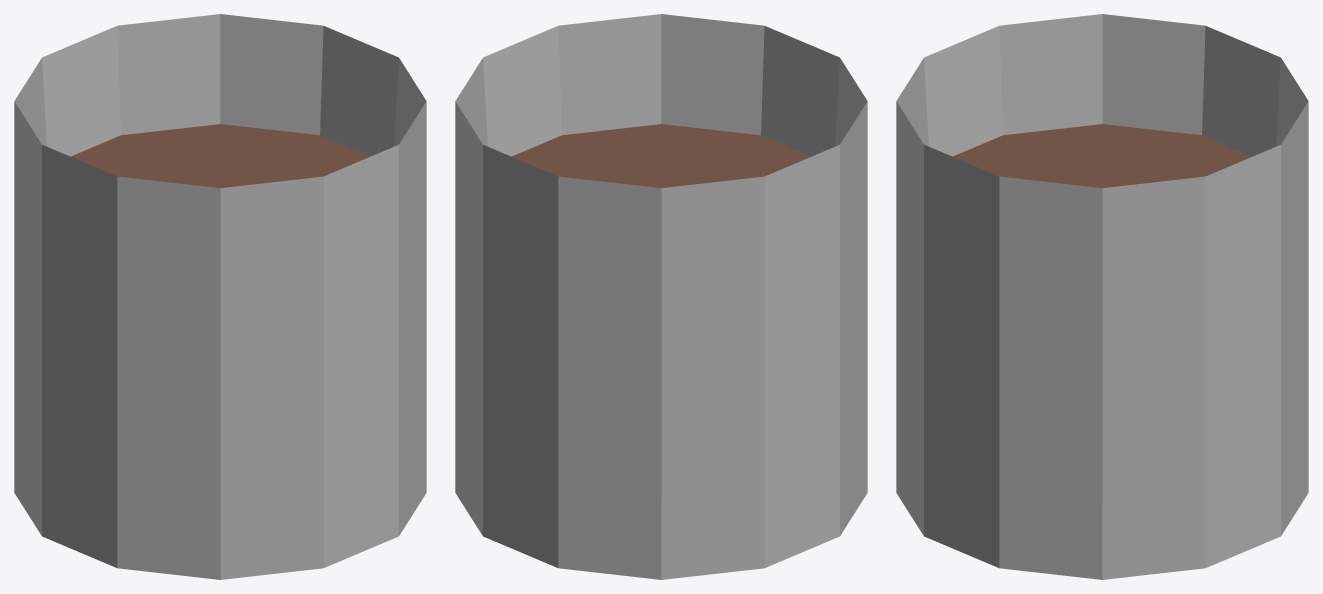
The model's file is Whisky.fbx.
3 renders of one model, left to right at view 1: azimuth 30°, elevation 25°; view 2: azimuth 150°, elevation 25°; view 3: azimuth 270°, elevation 25°, orthographic.
Parts seen in each view (by area): view 1: mesh_1101424007, mesh_1164383932, mesh_932839213; view 2: mesh_1101424007, mesh_1164383932, mesh_932839213; view 3: mesh_1101424007, mesh_1164383932, mesh_932839213.
Boxes of the visible parts, x1,y1,x2,y2 form: mesh_1101424007: (14,14,426,502); mesh_1164383932: (14,416,426,579); mesh_932839213: (71,124,369,187); mesh_1101424007: (455,14,867,502); mesh_1164383932: (455,416,867,579); mesh_932839213: (512,124,810,187); mesh_1101424007: (896,14,1308,502); mesh_1164383932: (896,416,1308,579); mesh_932839213: (953,124,1251,187).
Bounding box in the file's own units: 82 × 86 × 82.
